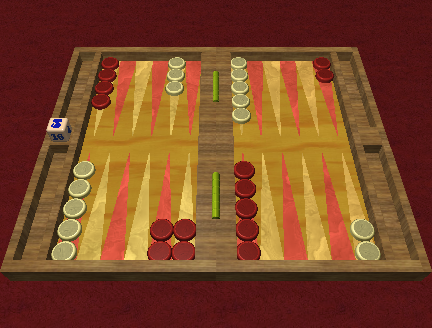checker: (150, 217, 174, 242), (349, 218, 375, 239), (235, 218, 259, 240), (173, 219, 197, 241), (146, 240, 173, 259), (234, 197, 258, 218), (63, 197, 87, 218), (57, 218, 81, 239), (235, 240, 261, 259), (355, 240, 381, 259), (51, 240, 77, 259), (233, 178, 256, 198), (233, 160, 256, 179), (73, 159, 96, 178), (68, 178, 91, 197), (173, 240, 194, 260), (89, 92, 112, 108), (232, 107, 252, 124), (314, 69, 335, 84), (93, 80, 114, 95), (165, 80, 184, 95), (231, 92, 250, 107), (100, 56, 120, 70), (94, 69, 118, 80), (312, 56, 332, 69), (231, 80, 250, 93), (230, 67, 249, 80), (167, 68, 185, 80), (168, 56, 186, 68), (229, 56, 247, 67)
